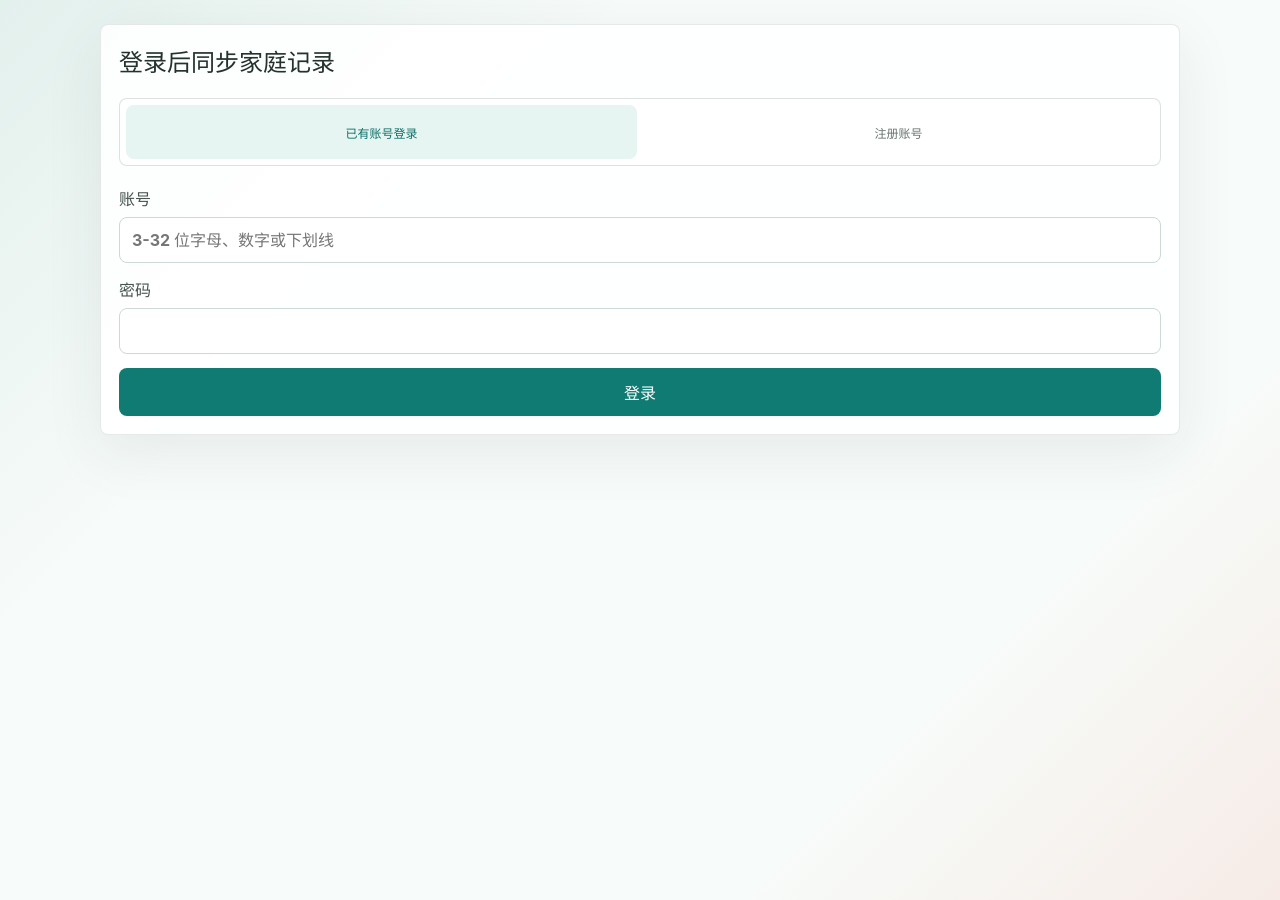
Scenario: AuthPanel › prevents registration when password confirmation does not match
Click the button "注册账号" at (898, 132), box [643,105,1154,159]
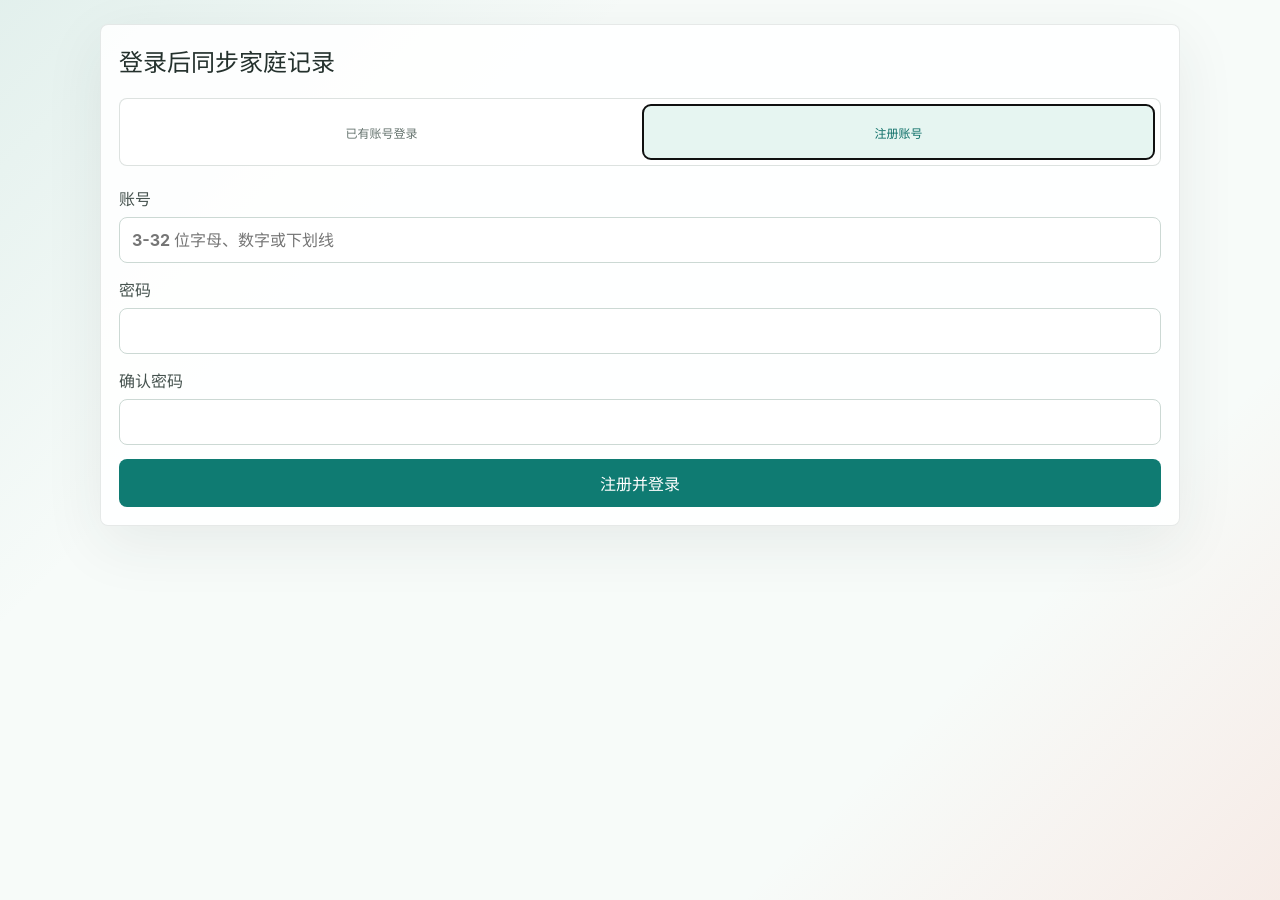
Type "baby_home" into the field labelled "账号" at (640, 240), box [119,217,1161,263]
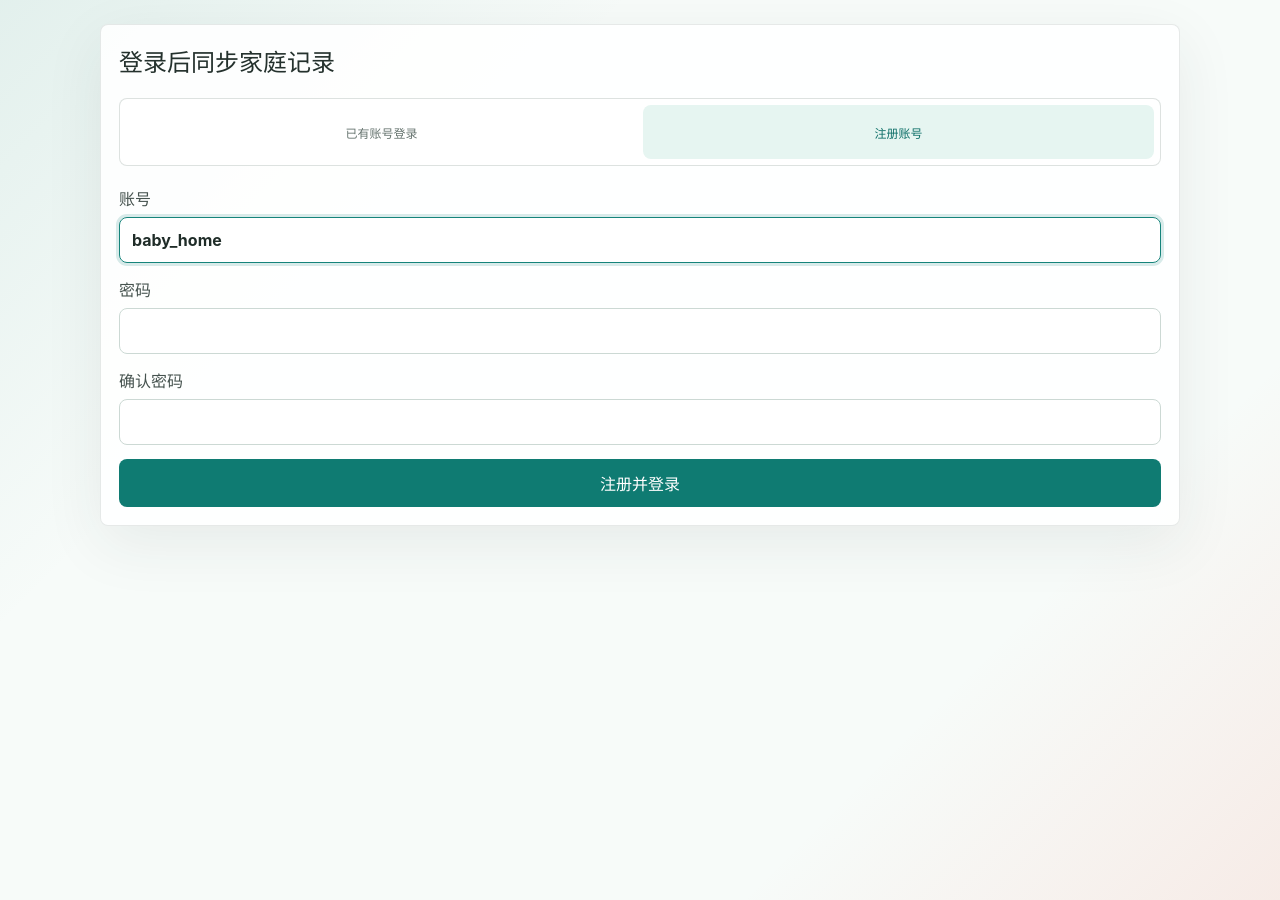
Type "password123" into the password field labelled "密码" at (640, 331), box [119,308,1161,354]
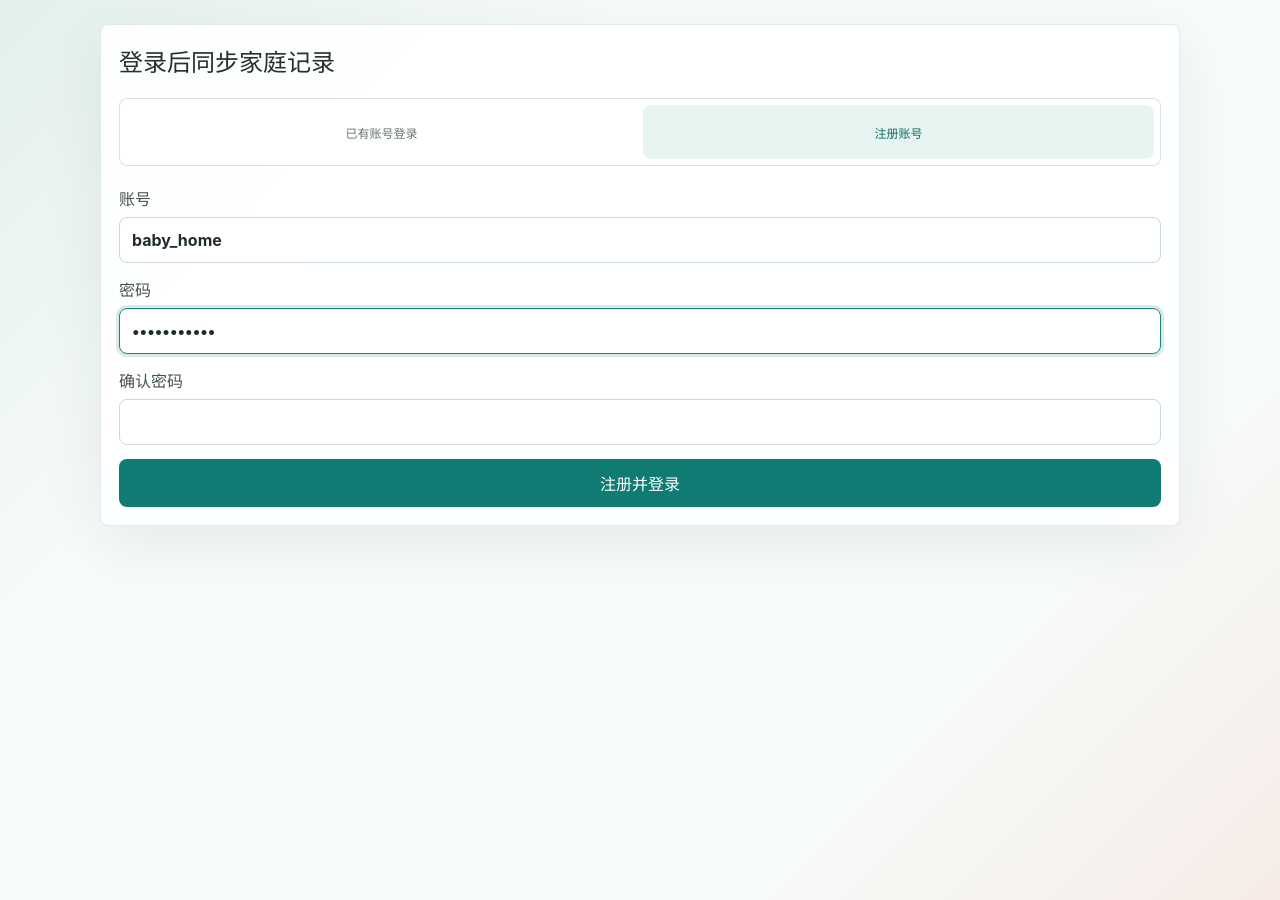
Type "password456" into the password field labelled "确认密码" at (640, 422), box [119,399,1161,445]
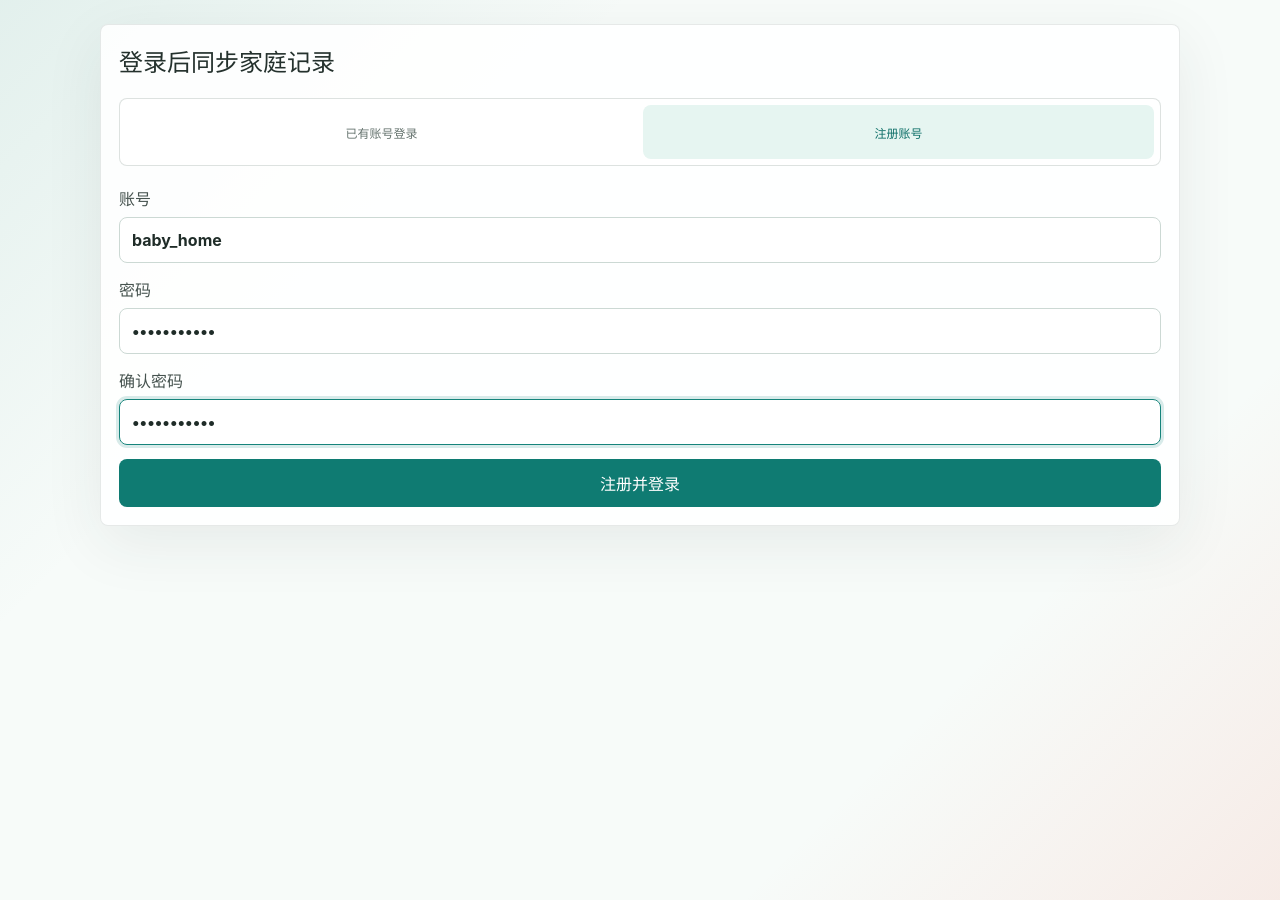
Click the button "注册并登录" at (640, 483), box [119,459,1161,507]
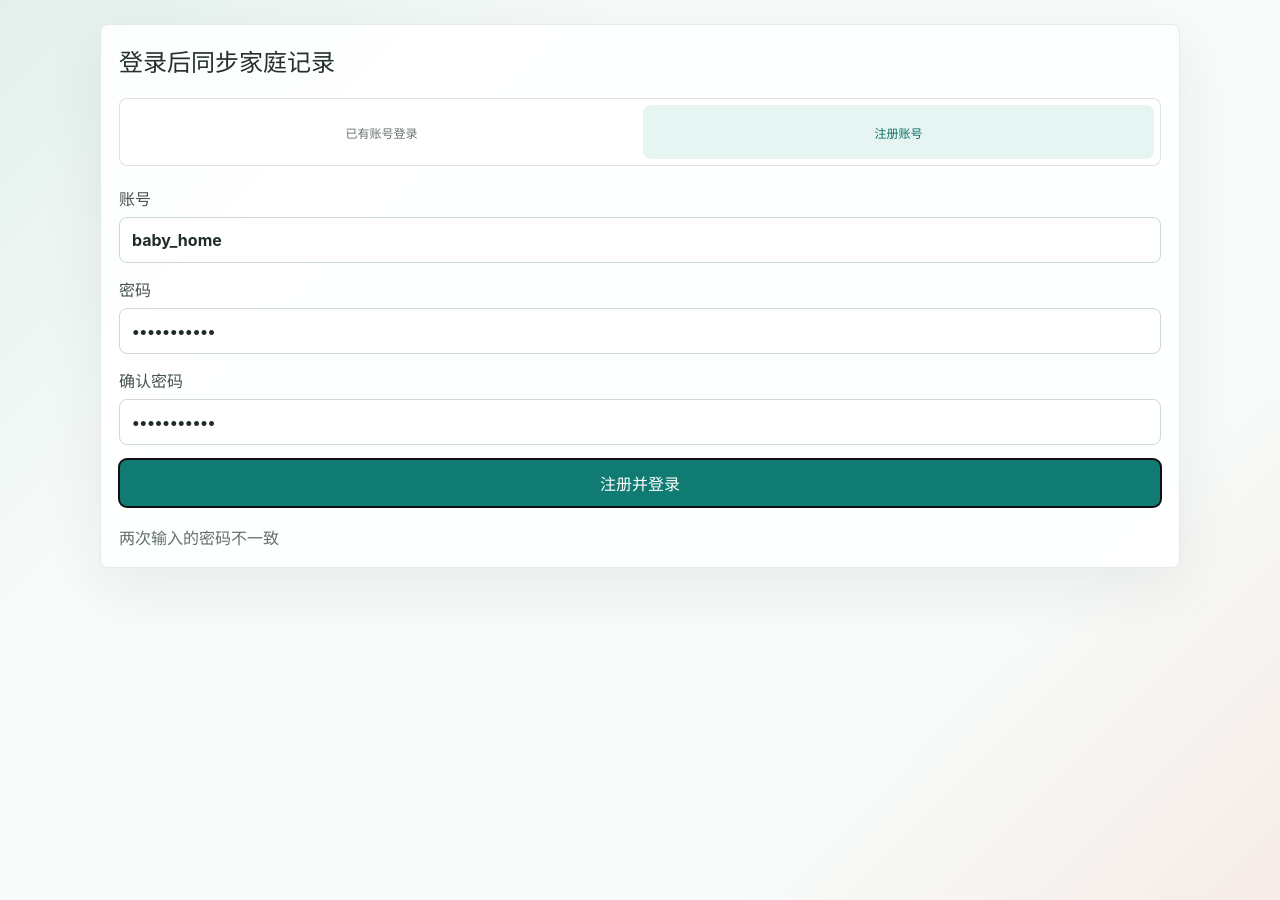
Result: the text "两次输入的密码不一致" is shown at [119,528,279,548]
